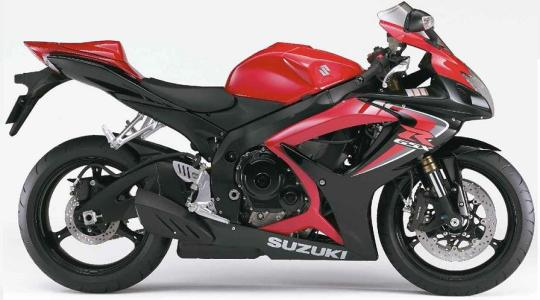motor: (28, 17, 537, 296)
